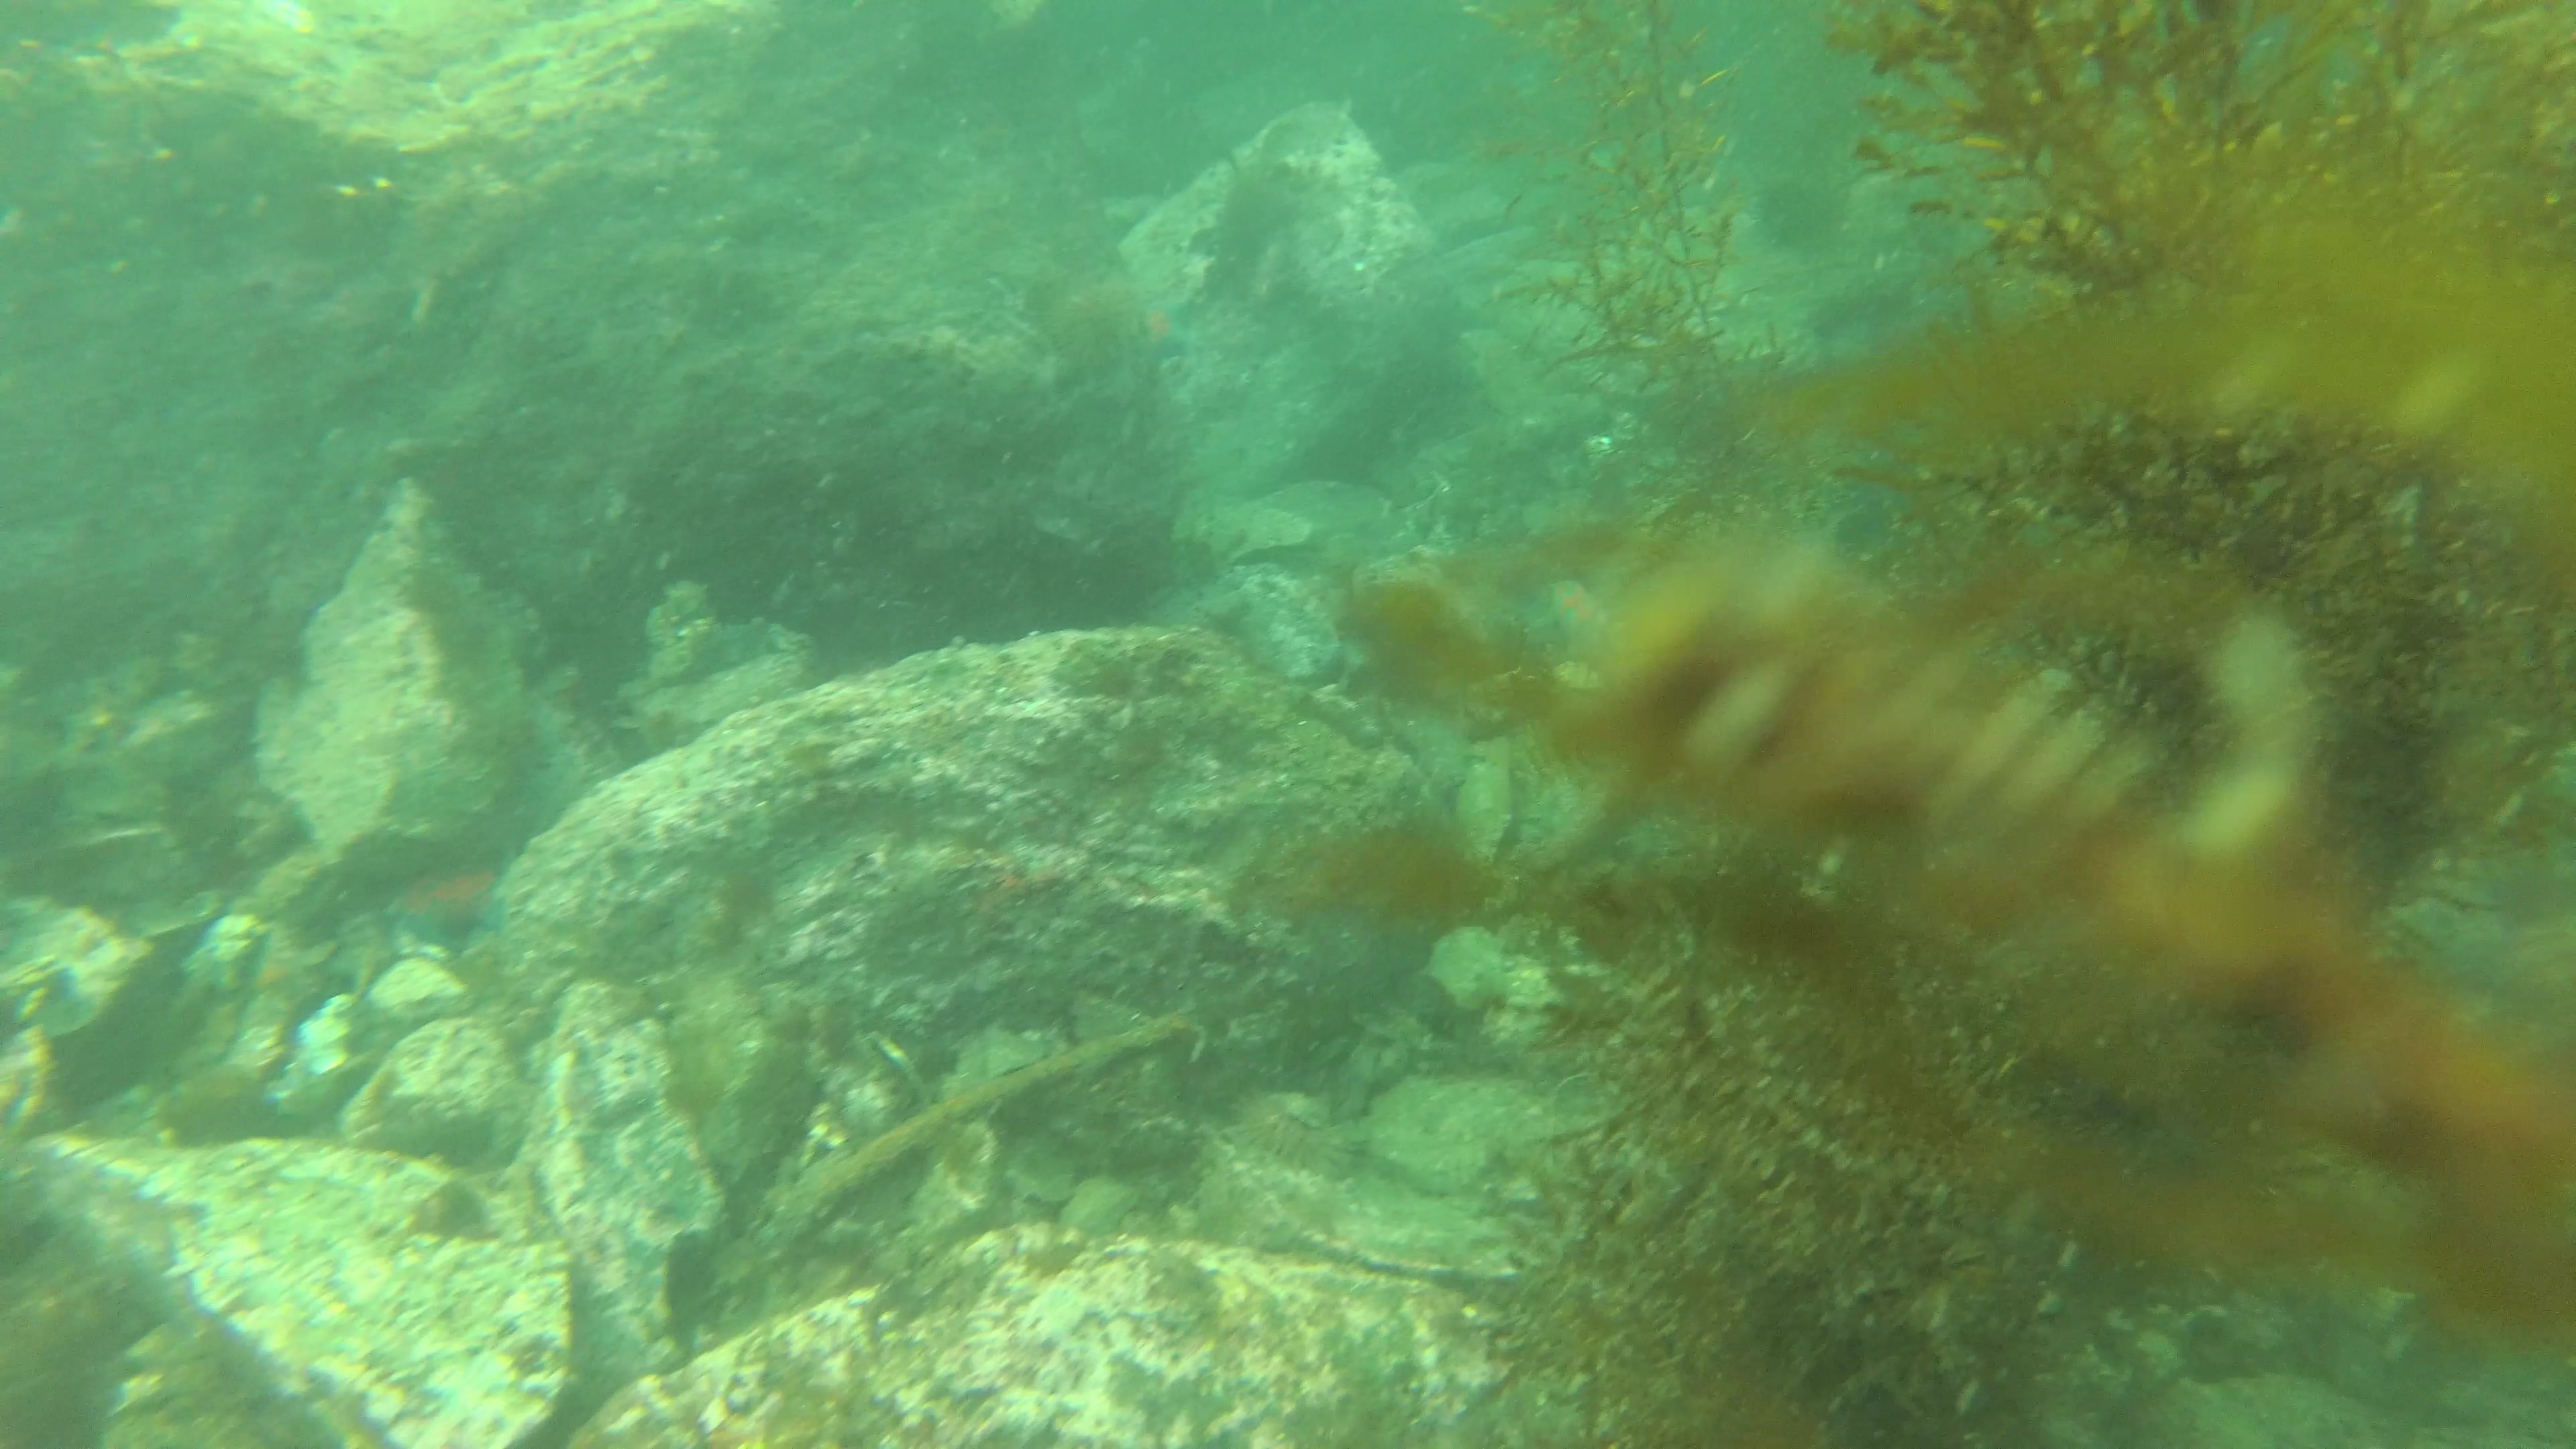starfish: (377, 839, 518, 943), (1536, 564, 1629, 674), (1123, 274, 1198, 361)
